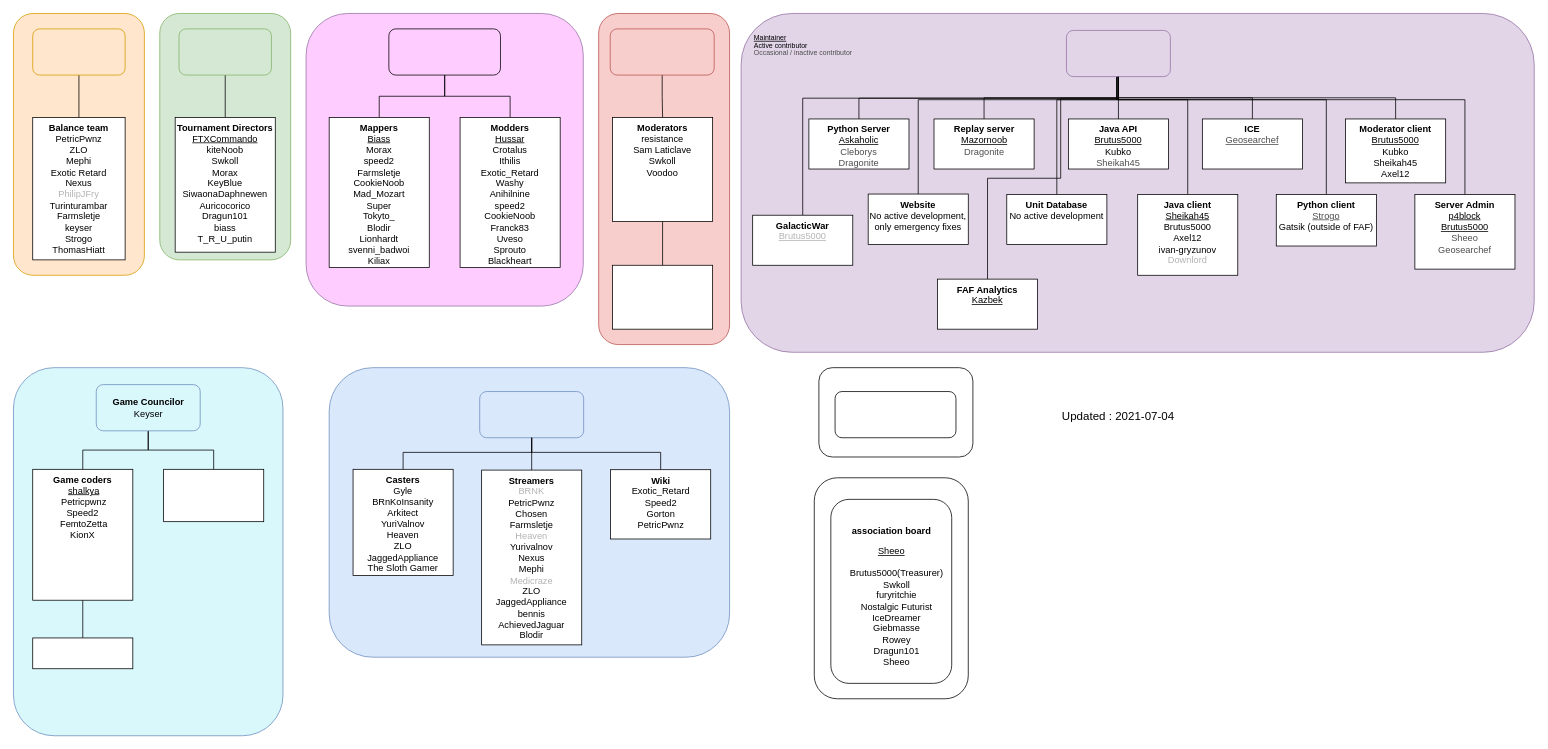
Some shapes in this 1548 by 749 pixel diagram are drawn without their labels. The centre of each missing label's shape, as x and y in pixels:
"Balance councilor JaggedAppliance" goes at (x=78, y=51).
"Coop Speed2" goes at (x=82, y=653).
"DevOps Councilor Brutus5000" goes at (x=1118, y=53).
"Discord Moderators GiebMasse PetricPwnz WhiteKnight DustToPhoenix" goes at (x=662, y=296).
"Game testers Nojoke" goes at (x=213, y=495).
"Head of association board Sheeo" goes at (x=895, y=414).
"Maps & Mods councilor Morax" goes at (x=444, y=51).
"Moderation councilor Giebmasse" goes at (x=661, y=51).
"Player councilor FtXCommando" goes at (x=224, y=51).
"Promotion Councilor Anihilnine" goes at (x=531, y=414).
